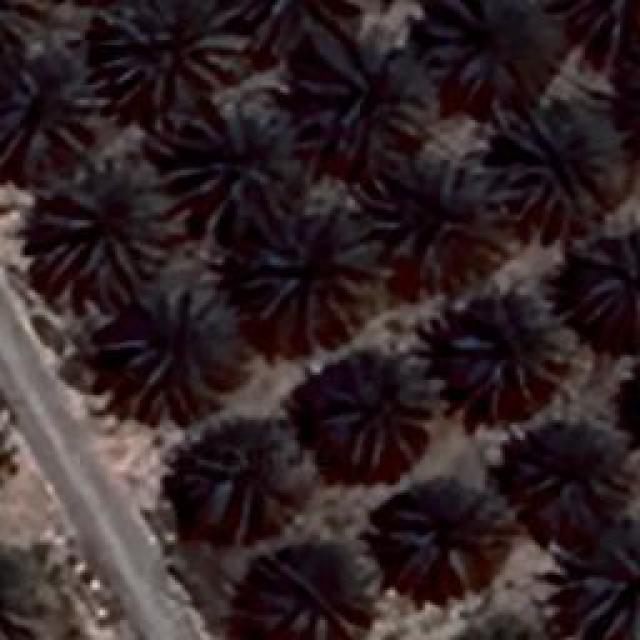PalmTree: (118, 19, 599, 60), (30, 160, 175, 292), (438, 285, 570, 420), (101, 296, 244, 416), (371, 477, 504, 595), (92, 0, 240, 105), (378, 158, 496, 286), (308, 25, 428, 150), (165, 110, 295, 225), (431, 0, 559, 110), (510, 422, 632, 536), (247, 217, 375, 325), (311, 361, 424, 474), (492, 105, 600, 213), (242, 545, 362, 640), (188, 428, 302, 526), (0, 67, 102, 154), (578, 528, 638, 638), (582, 217, 638, 325), (0, 544, 42, 640), (0, 0, 53, 56), (1, 0, 52, 57), (448, 613, 552, 640), (447, 622, 552, 640)
